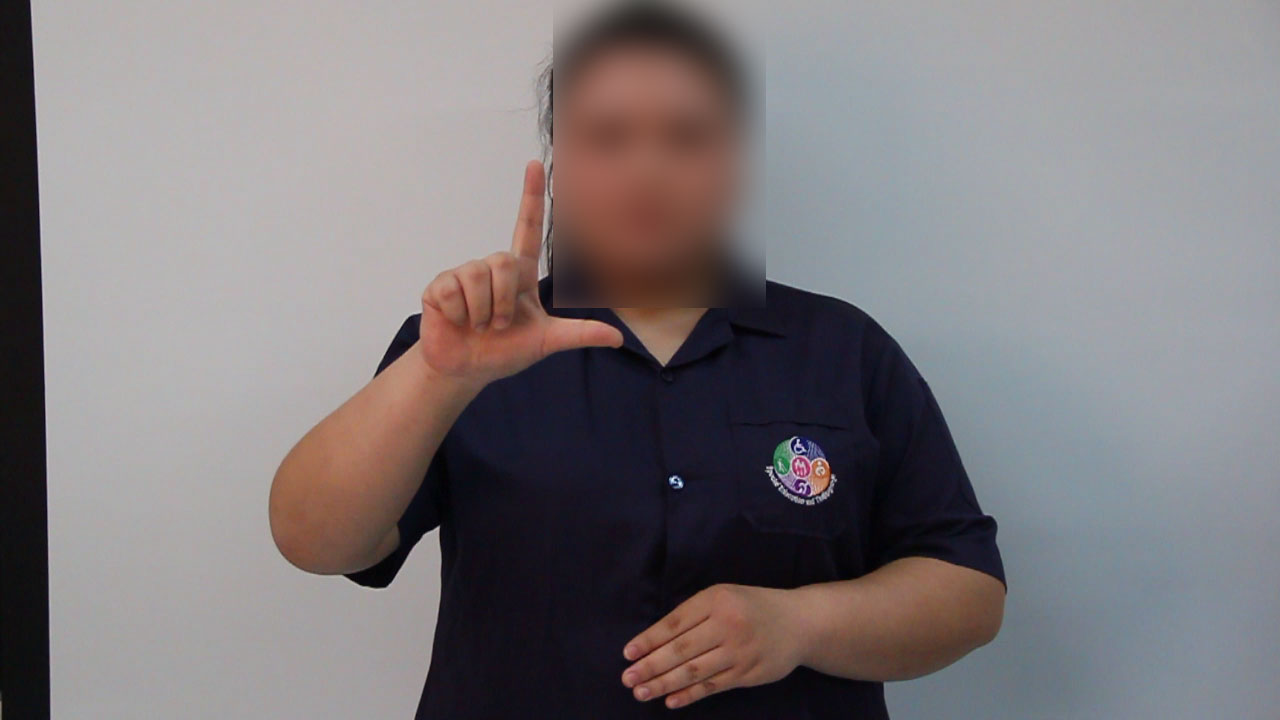lor: (403, 149, 634, 390)
